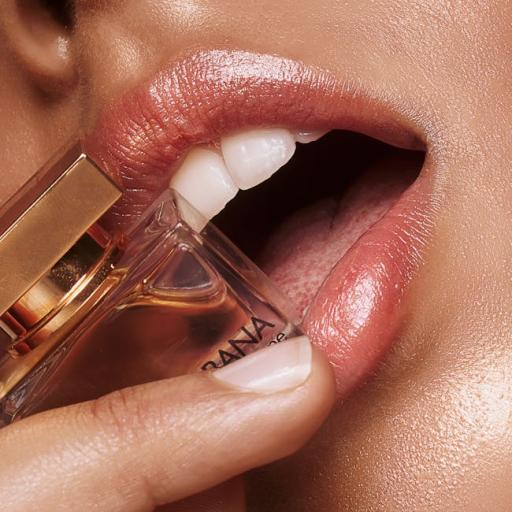lipstick: (0, 139, 300, 424)
